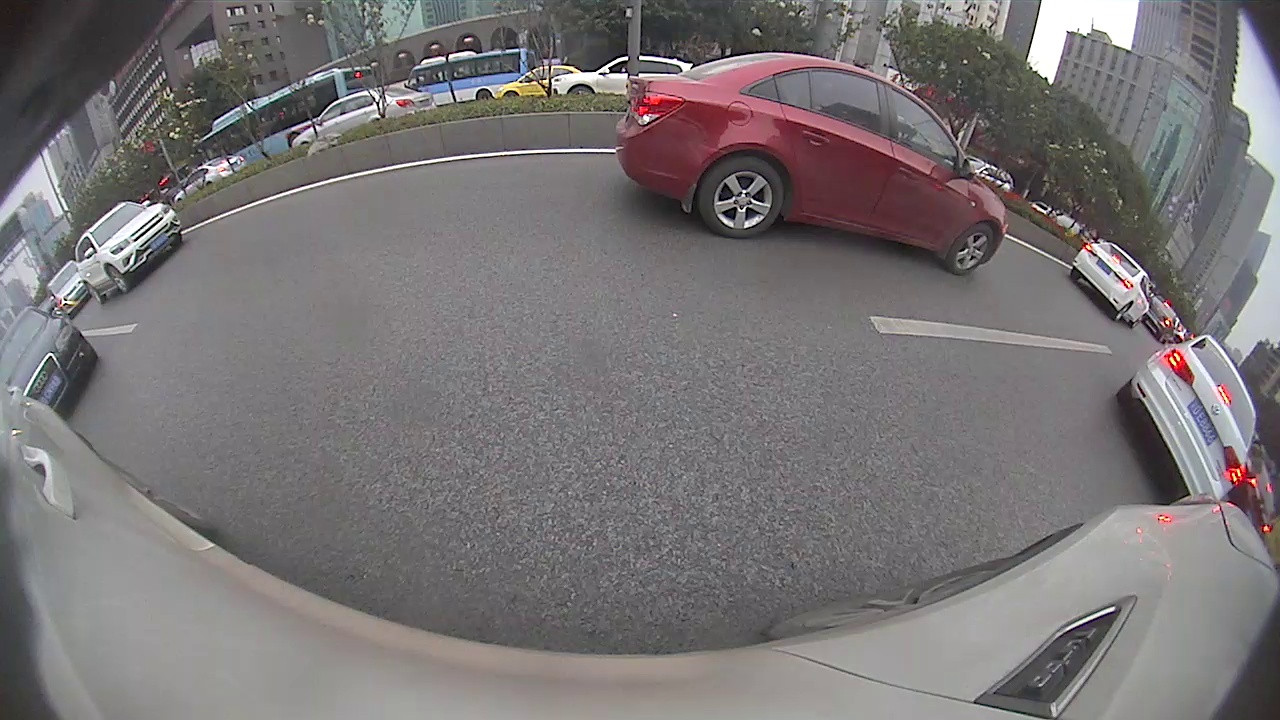car: (613, 51, 1011, 278), (1115, 335, 1259, 502), (73, 199, 185, 303), (1, 301, 98, 414), (1068, 239, 1155, 330)
front: (947, 227, 993, 276), (106, 263, 129, 294), (569, 85, 594, 108), (501, 91, 520, 105)
rear: (702, 157, 785, 237), (1114, 301, 1134, 322), (474, 90, 493, 107)
